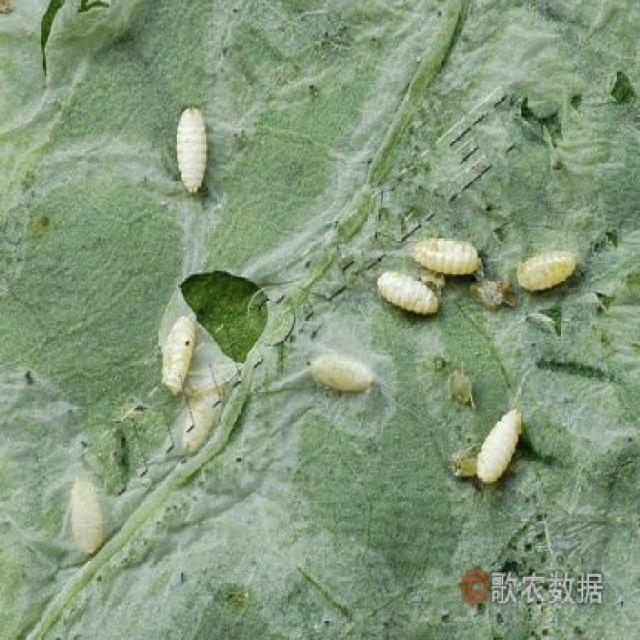whorl-maggot: (167, 91, 219, 200), (476, 398, 524, 490), (302, 344, 378, 402), (379, 258, 443, 325), (516, 235, 584, 293), (153, 306, 199, 389), (414, 231, 484, 280), (69, 474, 106, 554)
